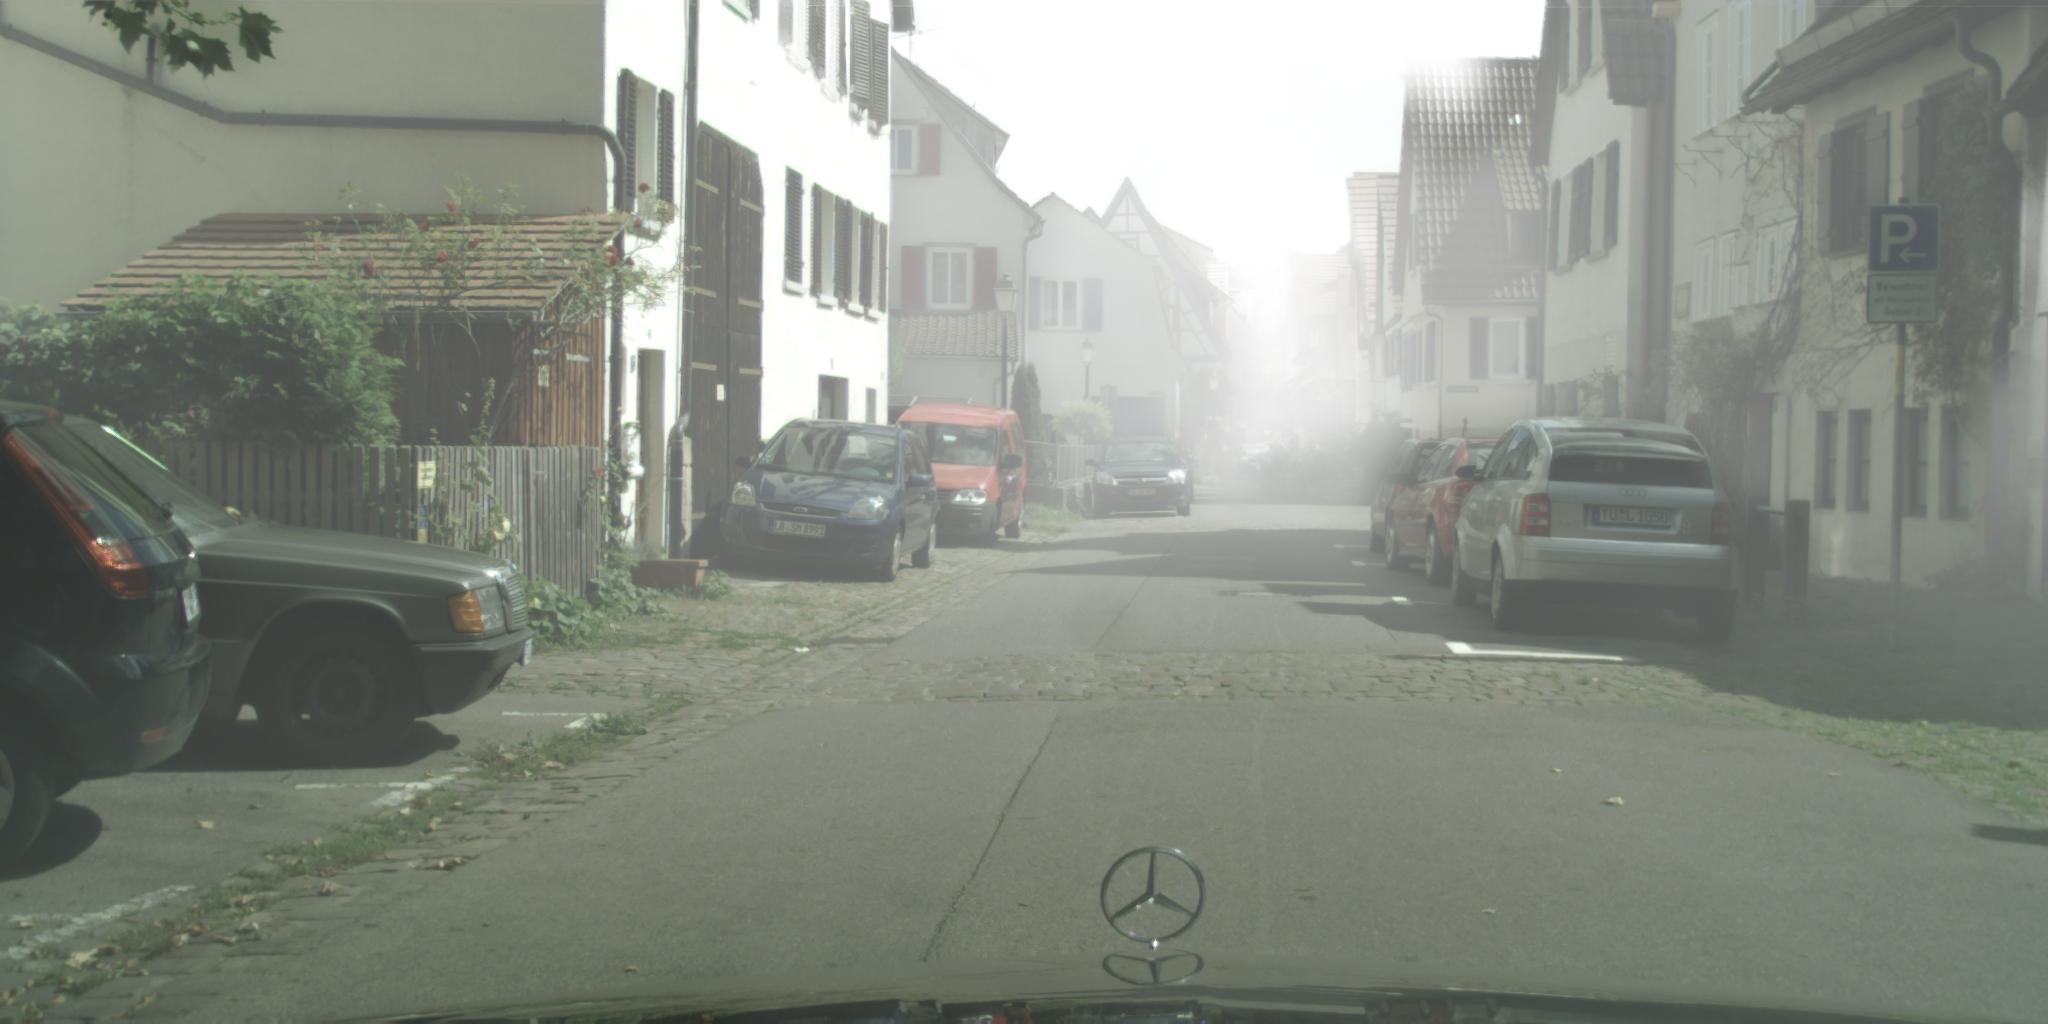car: (1, 398, 539, 769), (1, 402, 217, 875), (1450, 415, 1742, 637), (716, 419, 942, 584), (1383, 436, 1522, 588), (892, 401, 1031, 550), (1369, 438, 1465, 556), (1084, 435, 1198, 520), (1165, 441, 1199, 507)
